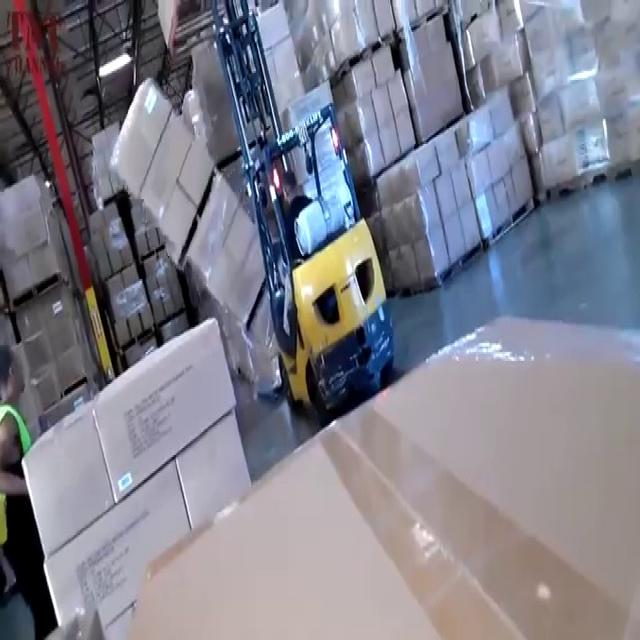Chariot elevateur: (204, 2, 402, 410)
